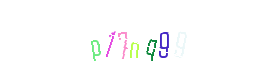1: (70, 0, 150, 80)
7: (89, 0, 169, 80)
9: (111, 0, 191, 80), (124, 0, 204, 80)
N: (94, 0, 174, 80)
P: (59, 0, 139, 80)
Q: (97, 0, 177, 80)
